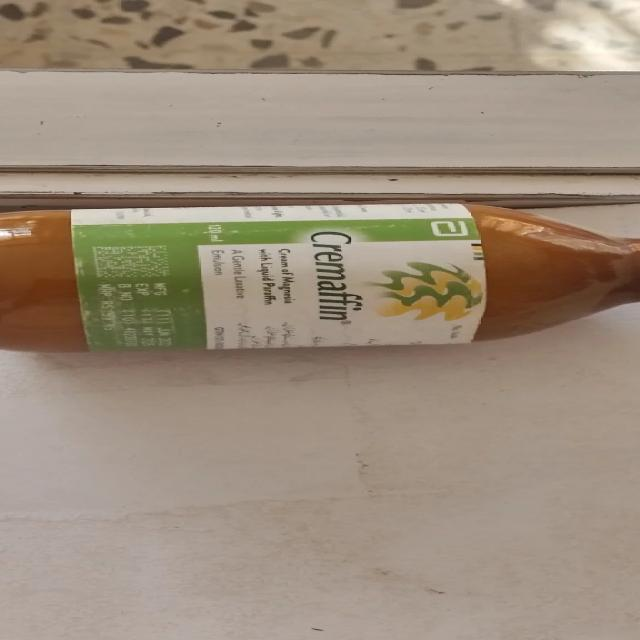drug-name: (306, 230, 368, 324)
